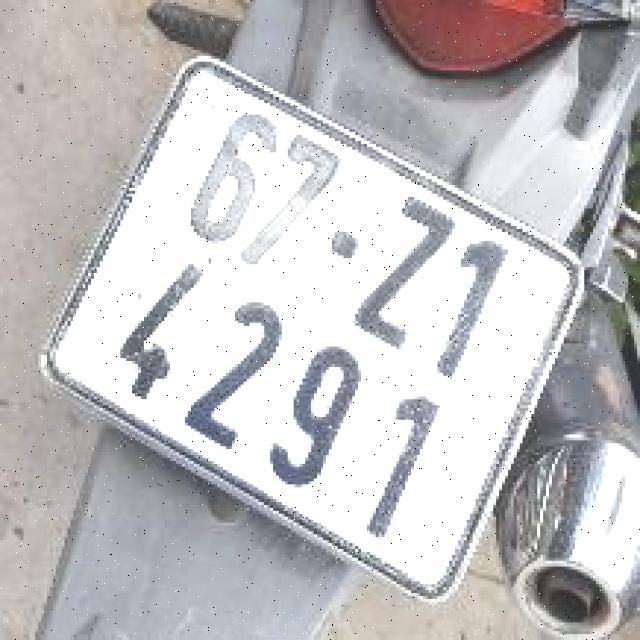1: (309, 366, 470, 561), (404, 218, 532, 402)
2: (166, 282, 310, 464)
4: (86, 232, 238, 426)
6: (170, 89, 302, 270)
7: (216, 114, 361, 297)
9: (249, 323, 392, 507)
Z: (338, 176, 475, 357)
